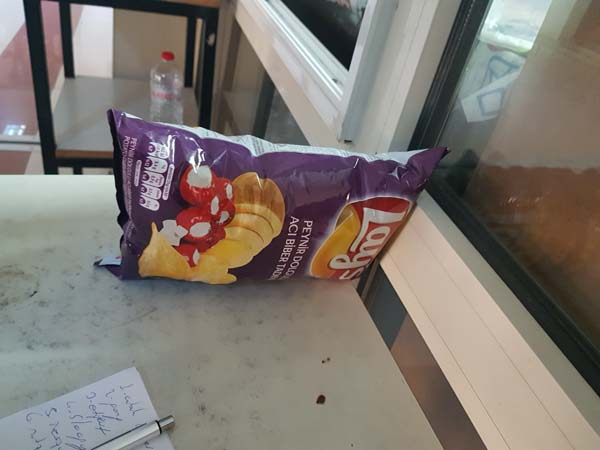layspeynirsoslu: (104, 109, 452, 282)
